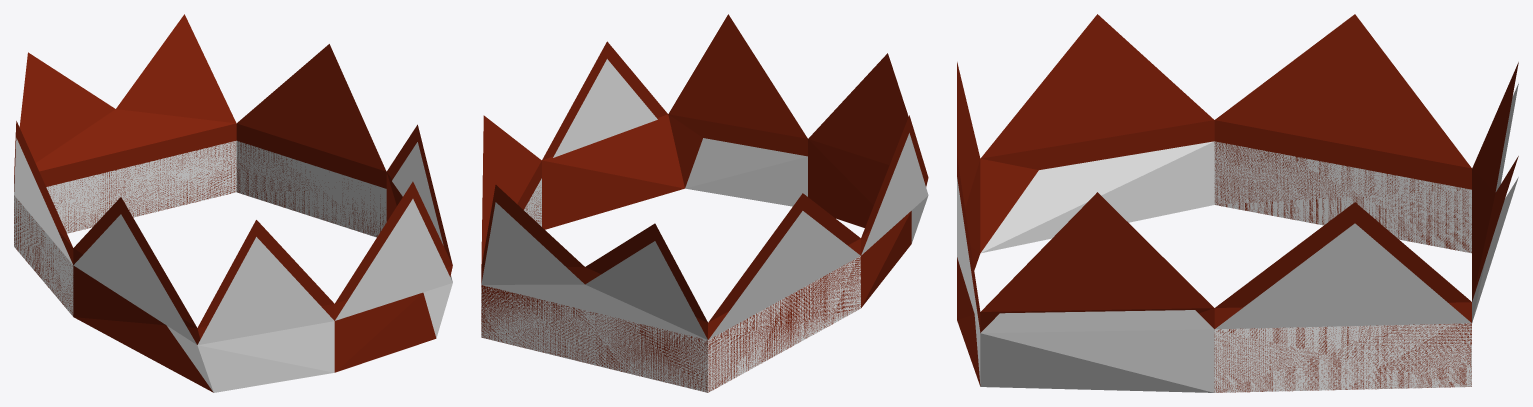
The model's file is npc_chat_megan_1.obj.
3 renders of one model, left to right at view 1: azimuth 30°, elevation 25°; view 2: azimuth 150°, elevation 25°; view 3: azimuth 270°, elevation 25°, orthographic. The views are drawn at different scales.
Size of the model in its own units: 0.5938 by 0.3125 by 0.75.
